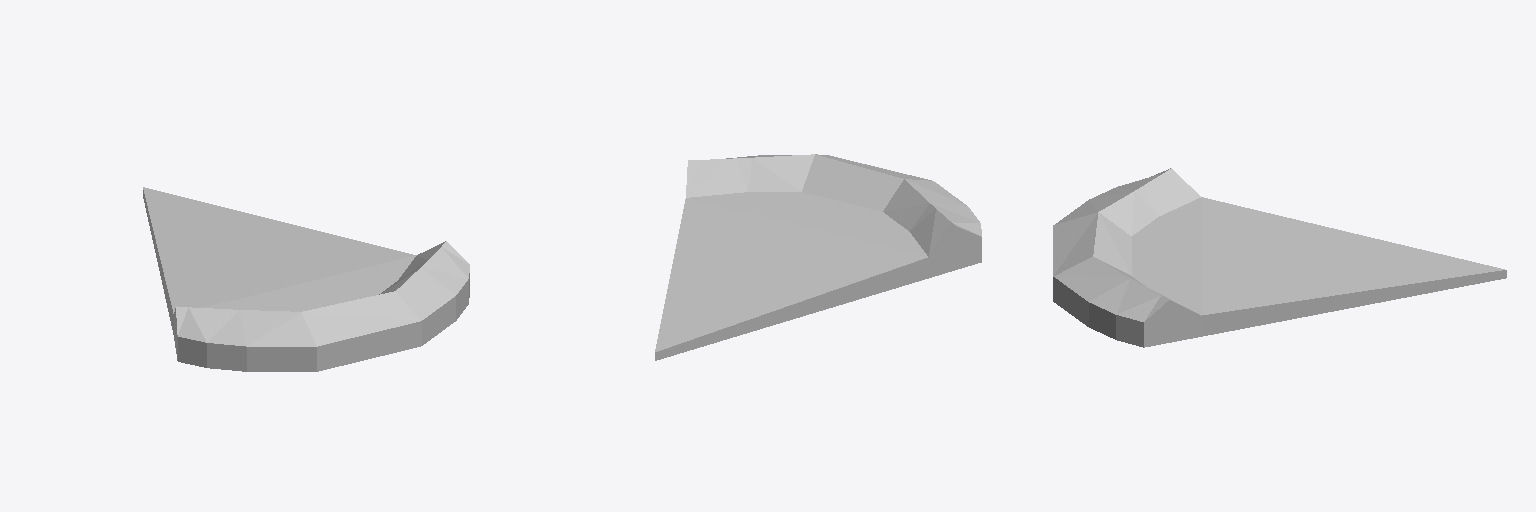
Rendered from pizza.obj.
The picture shows the model from 3 angles: view 1: azimuth 30°, elevation 25°; view 2: azimuth 150°, elevation 25°; view 3: azimuth 270°, elevation 25°; orthographic projection.
Parts seen in each view (by area): view 1: pizza; view 2: pizza; view 3: pizza.
Part boxes in pixels (x1,y1,x2,y2): pizza: (143,187,469,371); pizza: (655,154,981,360); pizza: (1053,168,1506,347).
Bounding box in the file's own units: 0.2498 × 0.0365 × 0.3348.